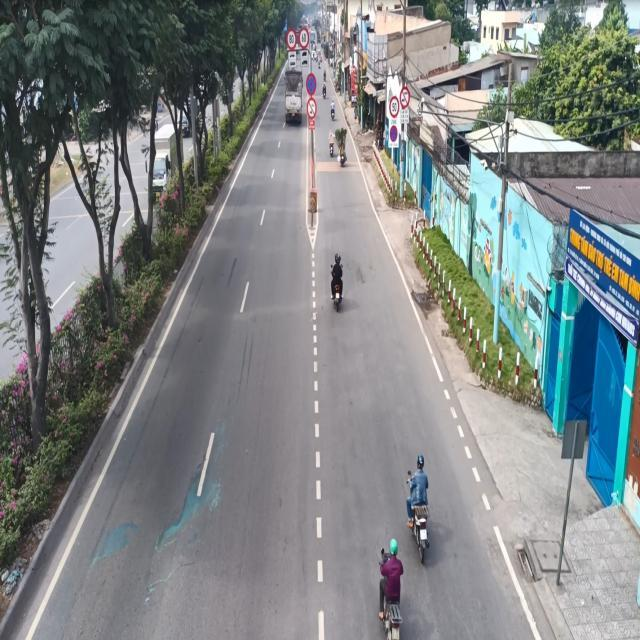motorcycle: (407, 504, 439, 566), (378, 591, 405, 640), (330, 276, 343, 311)
person: (377, 538, 403, 622), (405, 455, 428, 527), (329, 253, 343, 300)
truck: (141, 121, 190, 193), (283, 69, 302, 123)
